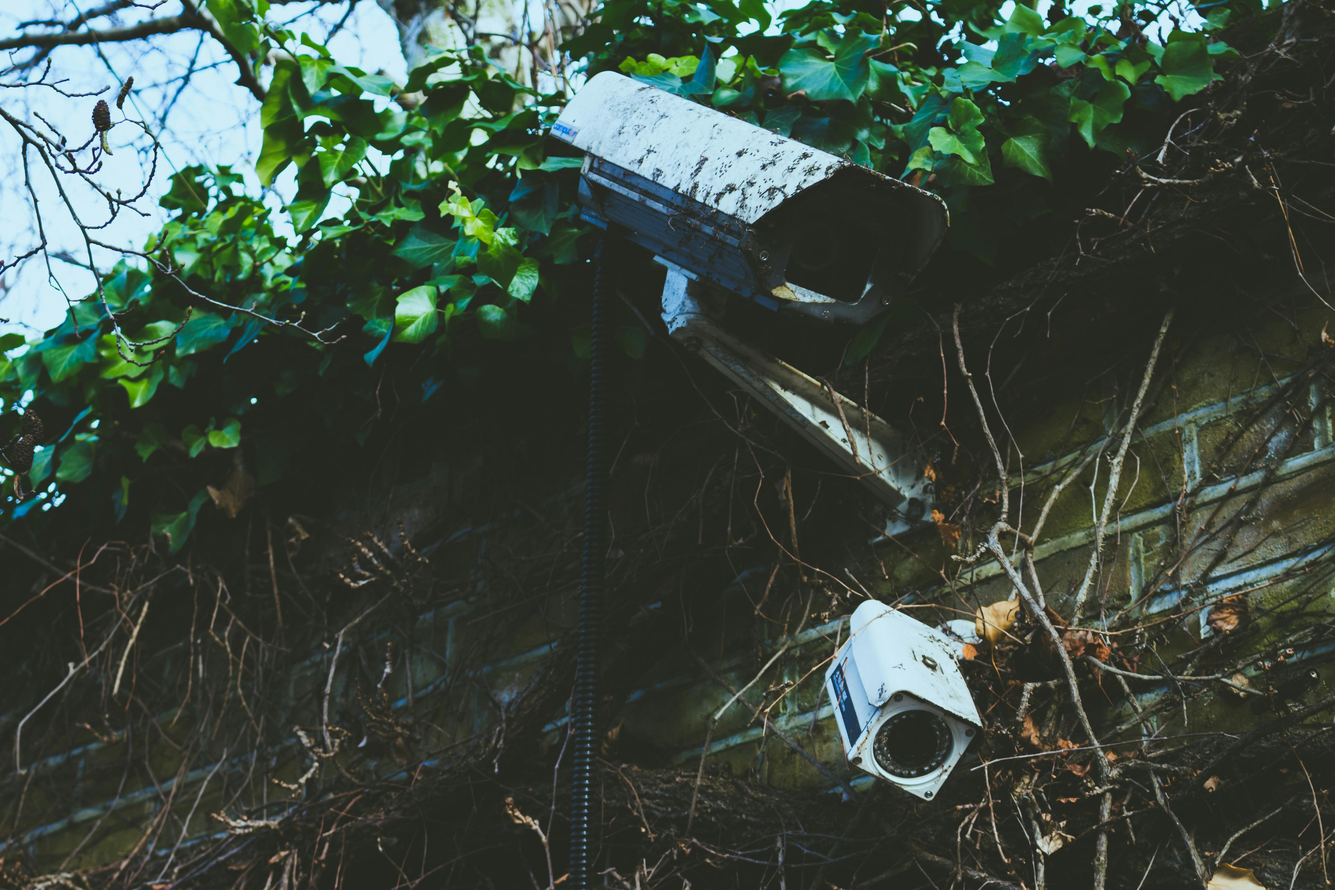camera: (530, 49, 976, 391), (752, 590, 1017, 873)
